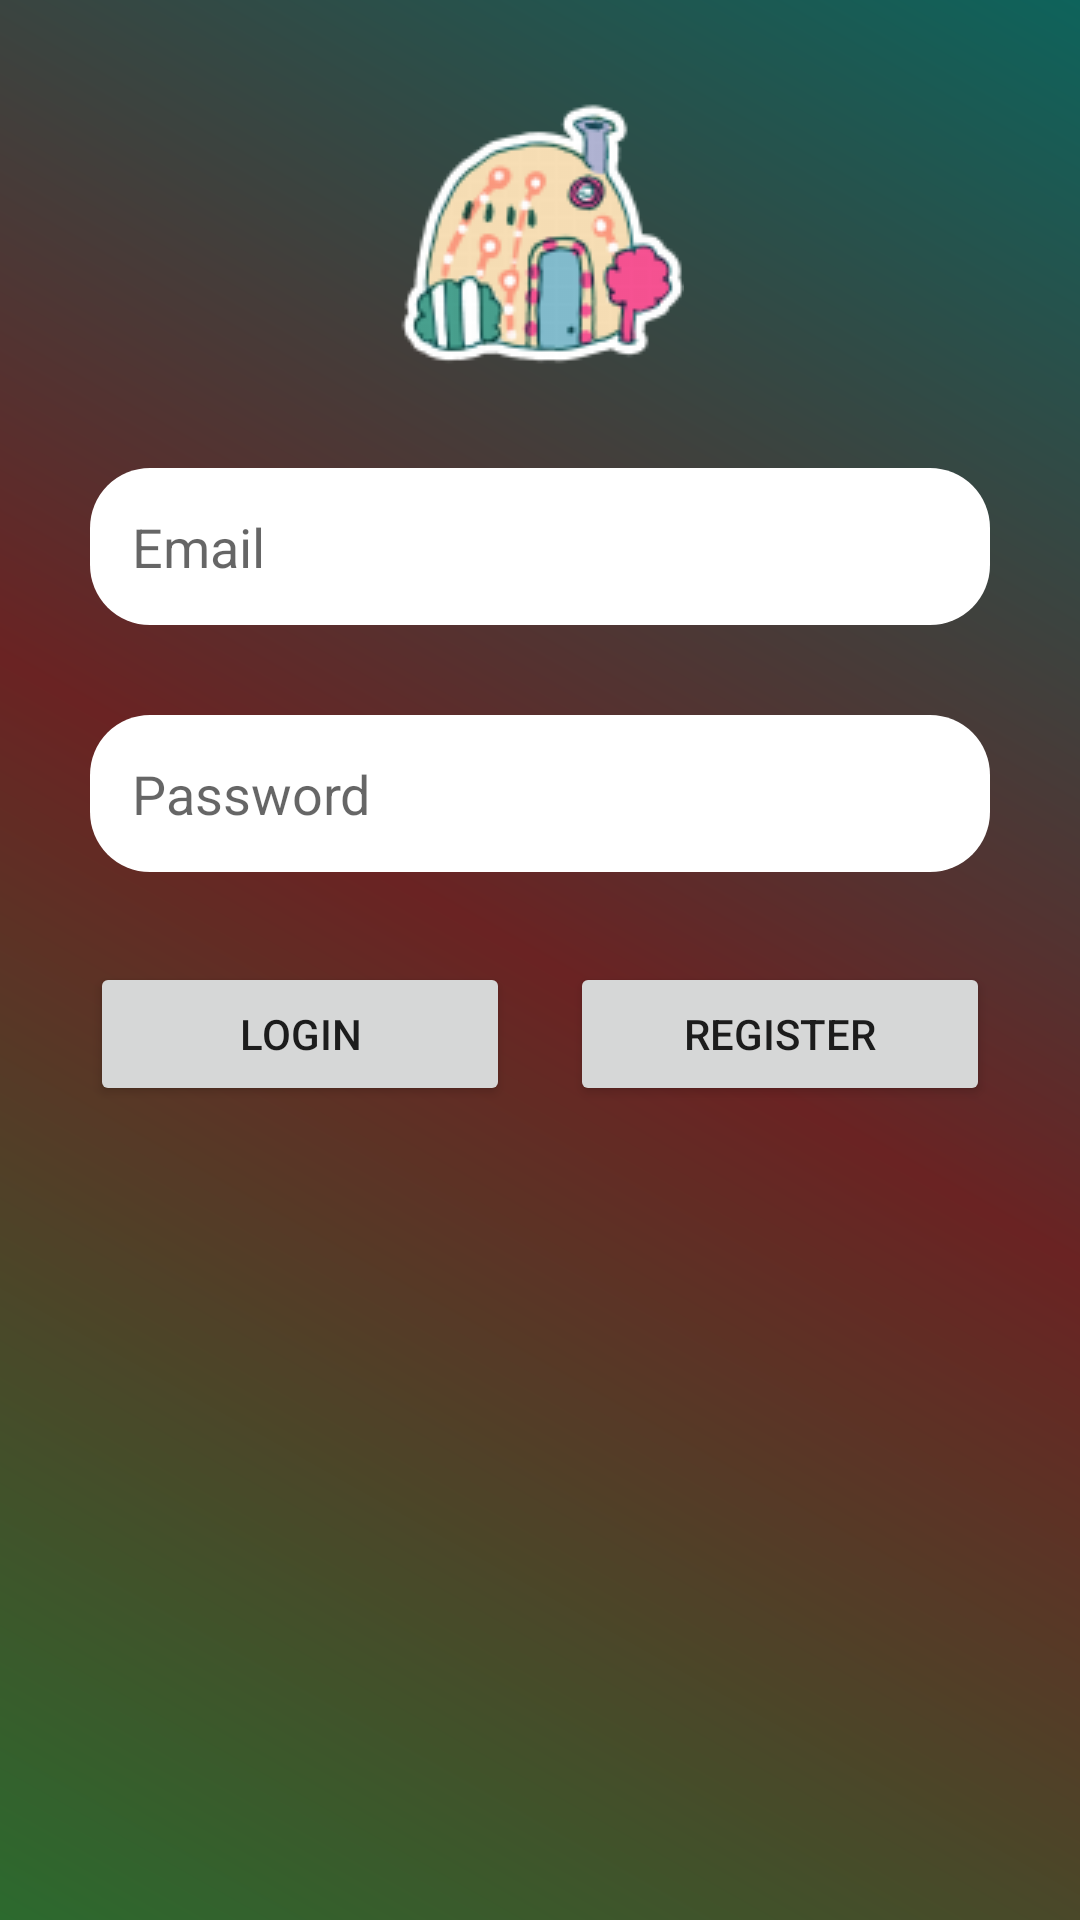

Named icons in this screenshot (1080 × 1920) and their bounding boxes, box=[x1, y1, x2, y2]:
home: box=[402, 90, 684, 363]
